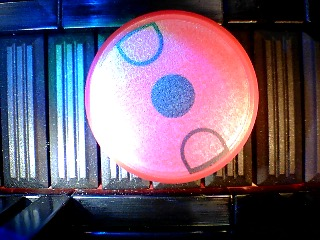BOHOMIPO2: (84, 10, 260, 184)
